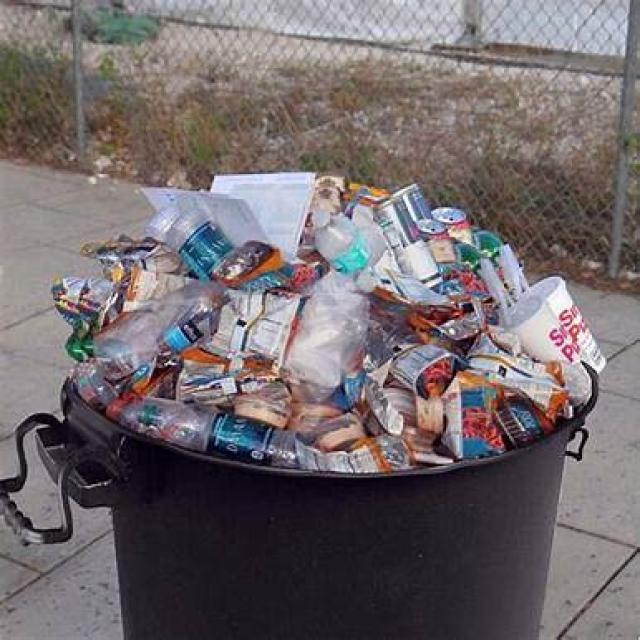Garbage: (0, 172, 640, 544)
Plastic_Bag: (284, 291, 369, 388)
Plastic_bottle: (94, 282, 226, 381), (146, 206, 232, 281), (111, 398, 218, 451), (211, 414, 298, 468)
can: (374, 184, 430, 249)
